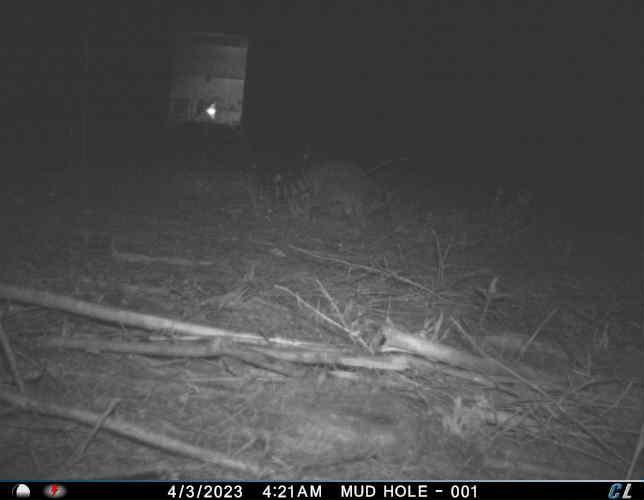Raccoon: (264, 156, 387, 217)
